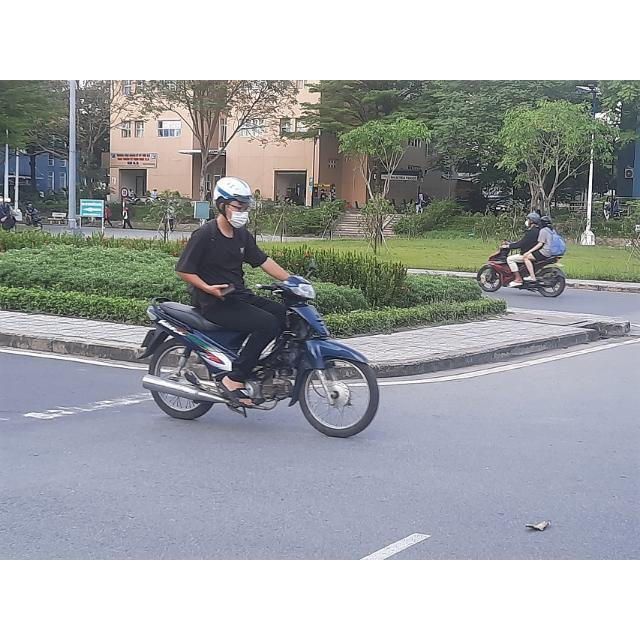Helmet: (209, 178, 255, 230)
